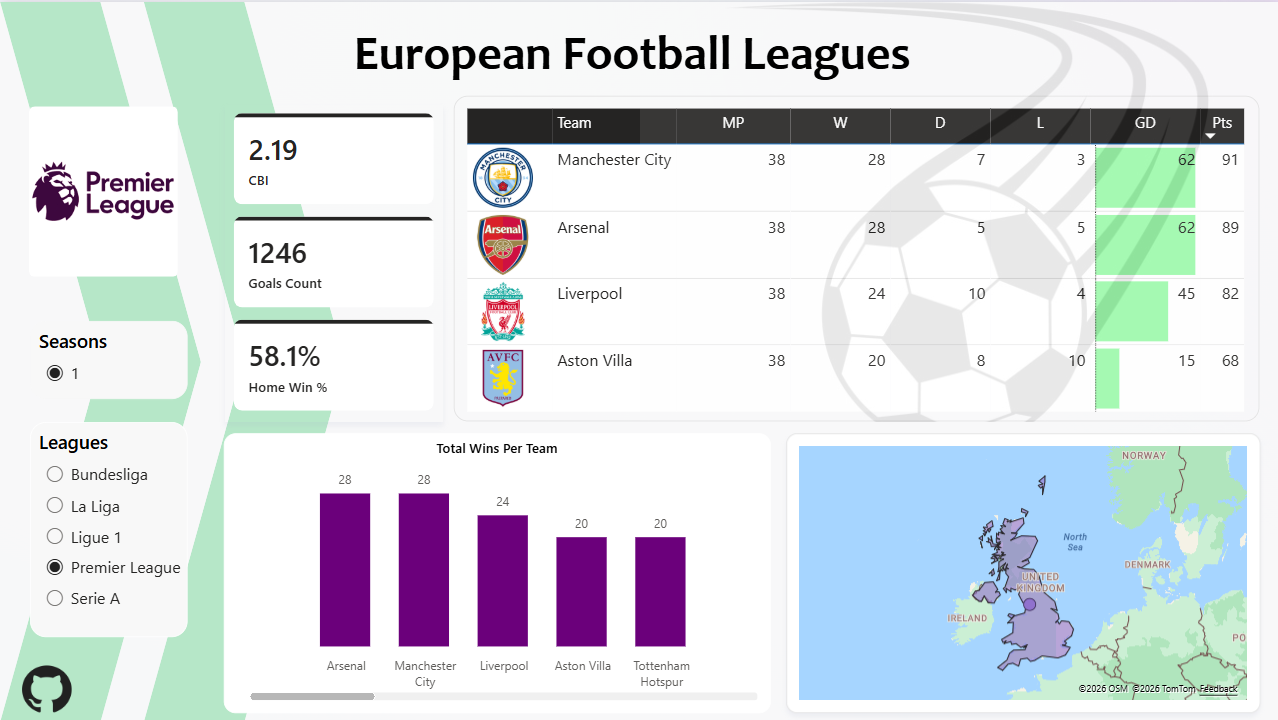

What the dashboard file says about the page in this screenshot:
{"tool":"powerbi","page":{"name":"Leagues","canvas":[1280,720],"ordinal":0},"visuals":[{"type":"shape","box":[144.3,0,201.4,720],"z":0},{"type":"clusteredColumnChart","title":"Total Wins Per Team","fields":{"Category":["DWH Dim_Team.Name"],"Series":["DWH Dim_League.Name"],"Y":["Sum(DWH Fact_Team_Monthly_Stat.Total_wins_count)"]},"box":[224.3,431.4,547.1,280],"z":1000},{"type":"shape","box":[0,0,201,720.2],"z":2000},{"type":"azureMap","fields":{"Category":["DWH Dim_League.Country"]},"box":[785.7,431.4,474.3,280],"z":3000},{"type":"slicer","title":"Leagues","fields":{"Values":["DWH Dim_League.Name"]},"box":[30,420,157.5,215],"z":4000},{"type":"cardVisual","fields":{"Data":["Min(DWH Dim_League.leagues.icon_url)"]},"box":[14.3,94.3,174.3,191.4],"z":5000},{"type":"tableEx","fields":{"Values":["DWH Dim_Team.teams.cresturl","DWH Dim_Team.Name","Sum(DWH Fact_Team_Monthly_Stat.Total_matches_played)","Sum(DWH Fact_Team_Monthly_Stat.Total_wins_count)","Sum(DWH Fact_Team_Monthly_Stat.Draw_count)","Sum(DWH Fact_Team_Monthly_Stat.Loss_count)","Sum(DWH Fact_Team_Monthly_Stat.Goal_difference)","Sum(DWH Fact_Team_Monthly_Stat.Total_points)"]},"box":[454.3,94.3,805.7,325.7],"z":6000},{"type":"image","box":[640,0,640,420],"z":6500},{"type":"cardVisual","fields":{"Data":["DWH Fact_Team_Monthly_Stat.CBI","Sum(DWH Fact_Team_Monthly_Stat.Goals_count)","DWH Fact_Scoring_Efficiency.Home Win % (Final Fix)"]},"box":[224.4,102.5,218.4,317.3],"z":7000},{"type":"textbox","box":[348.6,15.7,582.9,78.6],"z":8000},{"type":"image","box":[21.2,662.2,51.4,49.1],"z":9000},{"type":"slicer","title":"Seasons","fields":{"Values":["DWH Fact_Scoring_Efficiency.Season_key"]},"box":[30,318.8,157.5,78.8],"z":10000}]}

Visuals, with their boxes in screenshot pixels (x1, y1, x2, y2), scaled from the page's 1280x720 canvas onto the 1278x720 screenshot:
shape: {"x1": 144, "y1": 0, "x2": 345, "y2": 719}
"Total Wins Per Team" clusteredColumnChart: {"x1": 224, "y1": 431, "x2": 770, "y2": 711}
shape: {"x1": 0, "y1": 0, "x2": 201, "y2": 719}
azureMap - DWH Dim_League.Country: {"x1": 784, "y1": 431, "x2": 1258, "y2": 711}
"Leagues" slicer: {"x1": 30, "y1": 420, "x2": 187, "y2": 635}
cardVisual - Min(DWH Dim_League.leagues.icon_url): {"x1": 14, "y1": 94, "x2": 188, "y2": 286}
tableEx - DWH Dim_Team.teams.cresturl x DWH Dim_Team.Name: {"x1": 454, "y1": 94, "x2": 1258, "y2": 420}
image: {"x1": 639, "y1": 0, "x2": 1277, "y2": 420}
cardVisual - DWH Fact_Team_Monthly_Stat.CBI x Sum(DWH Fact_Team_Monthly_Stat.Goals_count): {"x1": 224, "y1": 102, "x2": 442, "y2": 420}
textbox: {"x1": 348, "y1": 16, "x2": 930, "y2": 94}
image: {"x1": 21, "y1": 662, "x2": 72, "y2": 711}
"Seasons" slicer: {"x1": 30, "y1": 319, "x2": 187, "y2": 398}
